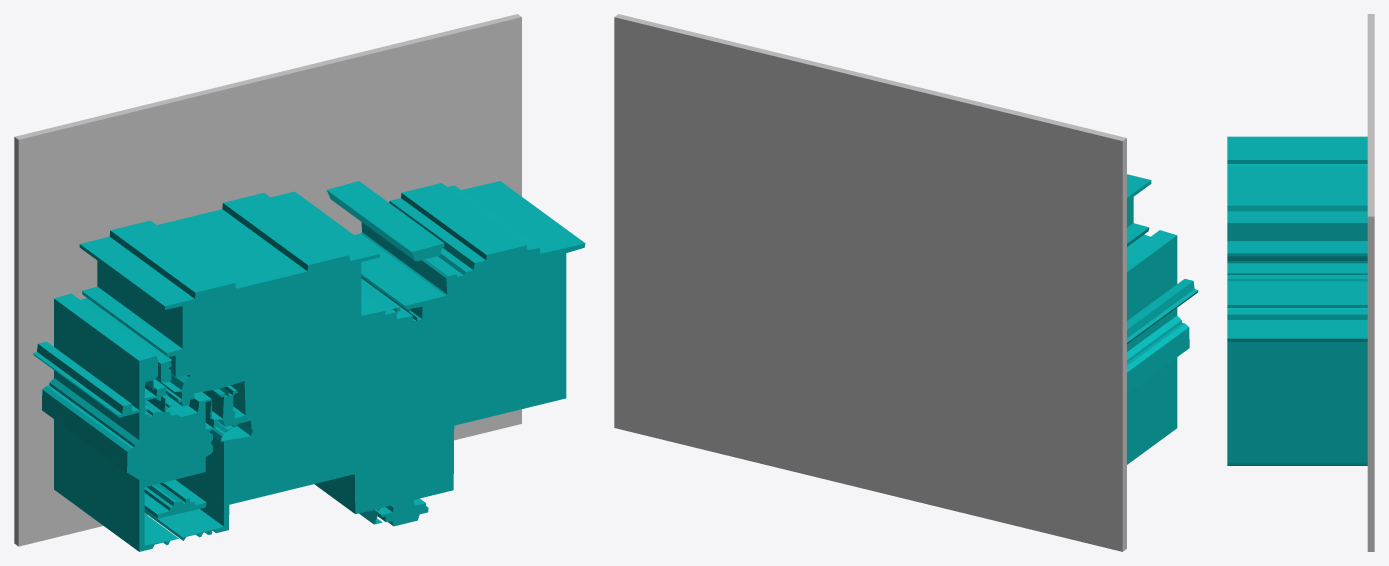
3 views of the same model, side by side, from view 1: azimuth 30°, elevation 25°; view 2: azimuth 150°, elevation 25°; view 3: azimuth 270°, elevation 25° (orthographic). The views are drawn at different scales.
Parts seen in each view (by area): view 1: world; view 2: world; view 3: world.
Boxes of the visible parts, x1=… form: world: x1=14, y1=14, x2=585, y2=551; world: x1=614, y1=14, x2=1198, y2=551; world: x1=1227, y1=14, x2=1374, y2=551.
Size of the model in its own units: 10.23 by 7.9 by 3.15.
